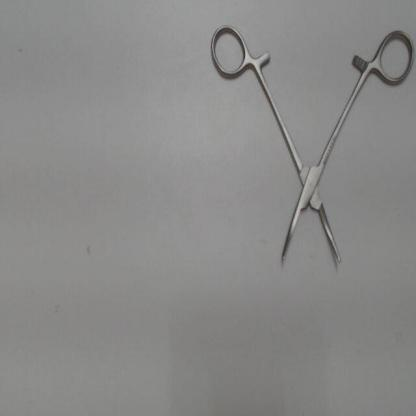Crile Artery Forceps: (197, 11, 415, 272)
